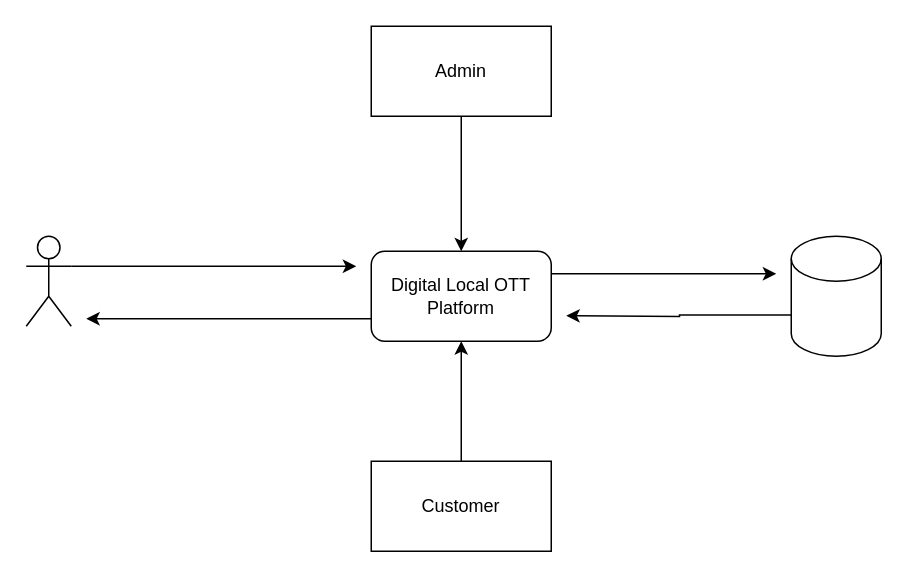
This 908x578 diagram has some shape labels left out. The box of each missing label's shape, as (x1, y1, x2, y2) in pixels:
Actor: (25, 235, 71, 326)
Database: (790, 235, 881, 356)
